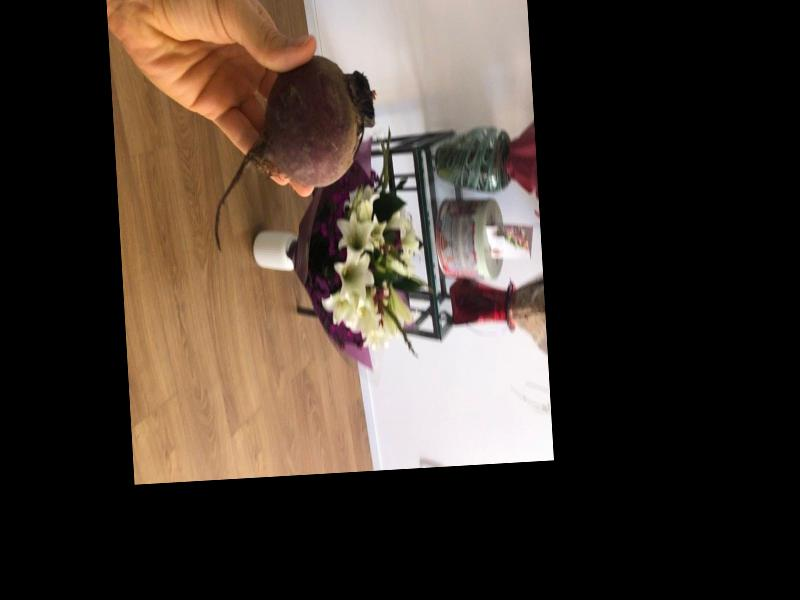Beet: (205, 53, 383, 255)
